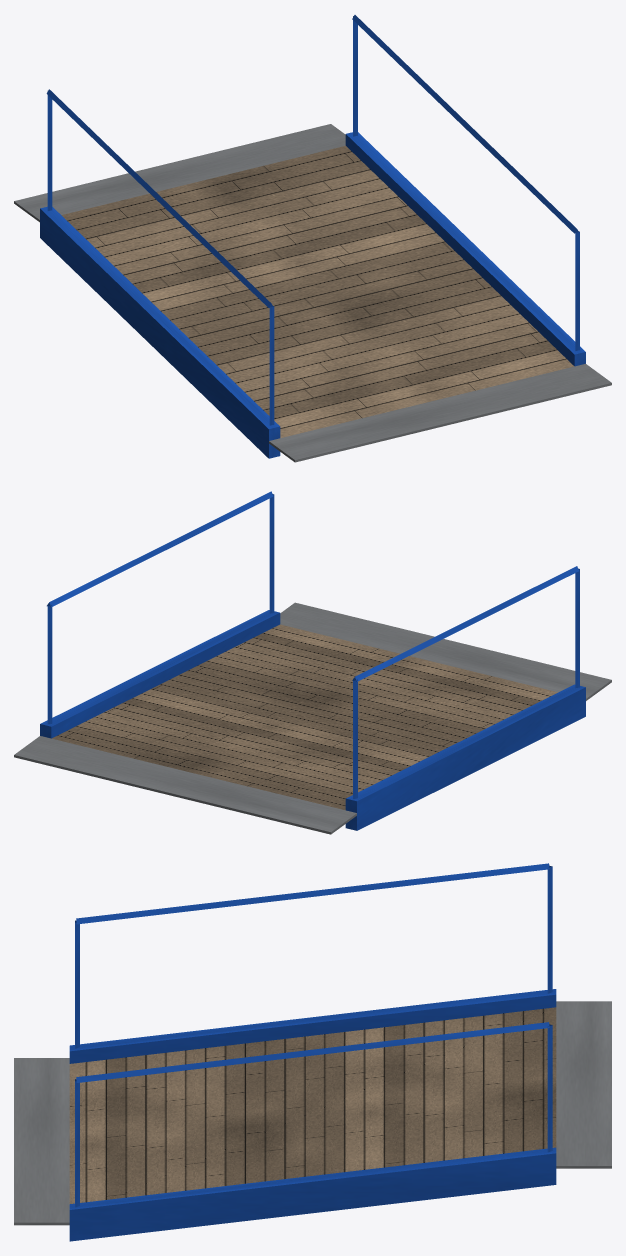
File: SM_Morin_Marina_Passerella_v2_LOD2.fbx
3 renders of one model, top to bottom at view 1: azimuth 30°, elevation 25°; view 2: azimuth 150°, elevation 25°; view 3: azimuth 270°, elevation 25°, orthographic. The views are drawn at different scales.
Parts seen in each view (by area): view 1: SM_Morin_Marina_Passerella_v2_LOD2; view 2: SM_Morin_Marina_Passerella_v2_LOD2; view 3: SM_Morin_Marina_Passerella_v2_LOD2.
Part boxes in pixels (box(x1,y1,x2,y2)): SM_Morin_Marina_Passerella_v2_LOD2: box(14, 15, 611, 462); SM_Morin_Marina_Passerella_v2_LOD2: box(14, 491, 611, 834); SM_Morin_Marina_Passerella_v2_LOD2: box(14, 863, 611, 1241).
Size of the model in its own units: 280 by 430 by 172.
Materials: 2 (2 with a texture image).
